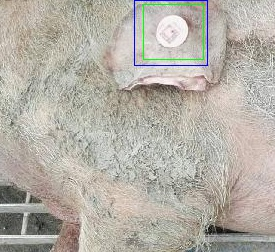text: (143, 4, 203, 59)
